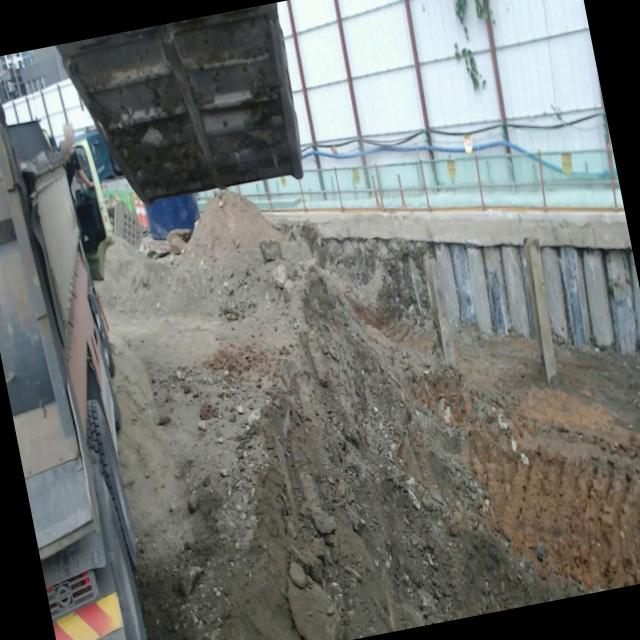white-sand: (101, 193, 640, 640)
